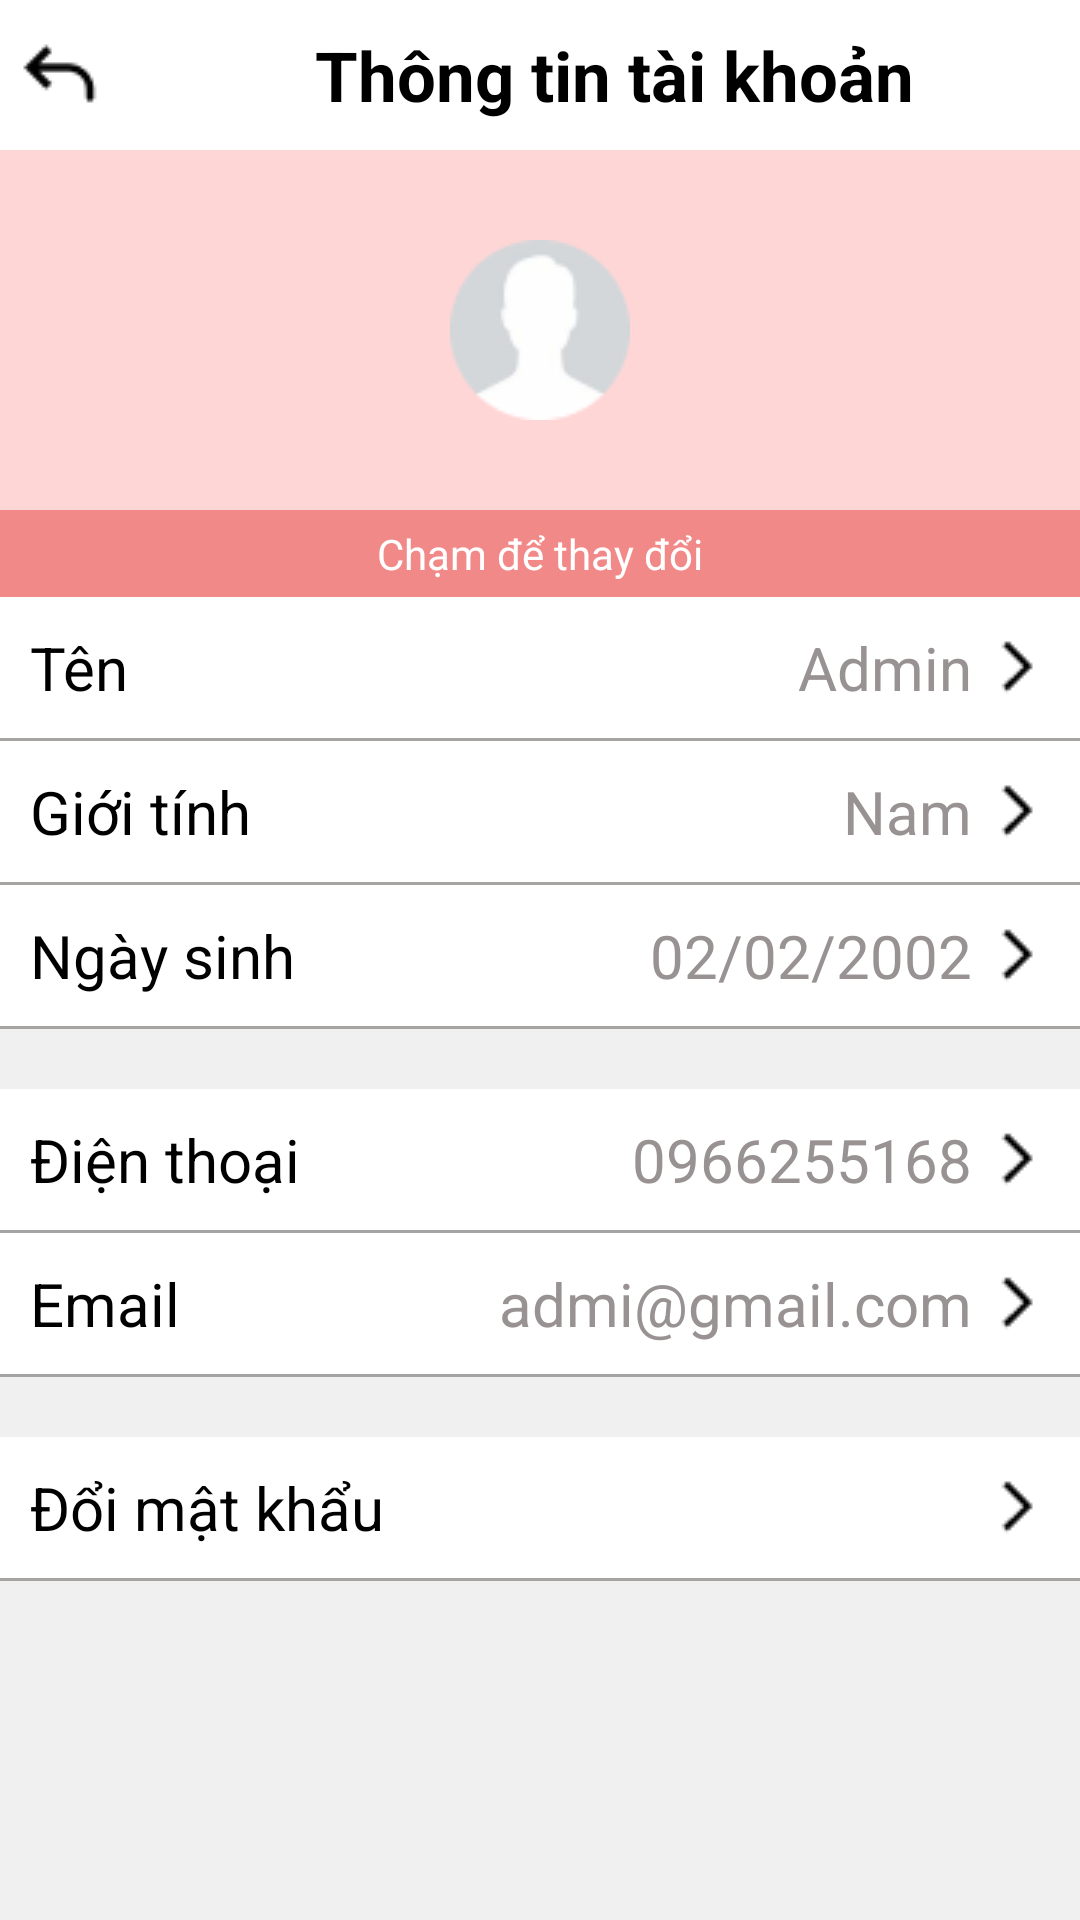

Point at icon controls on the screen. Image size 1080×1920, points as (x,y).
back: (59,73)
